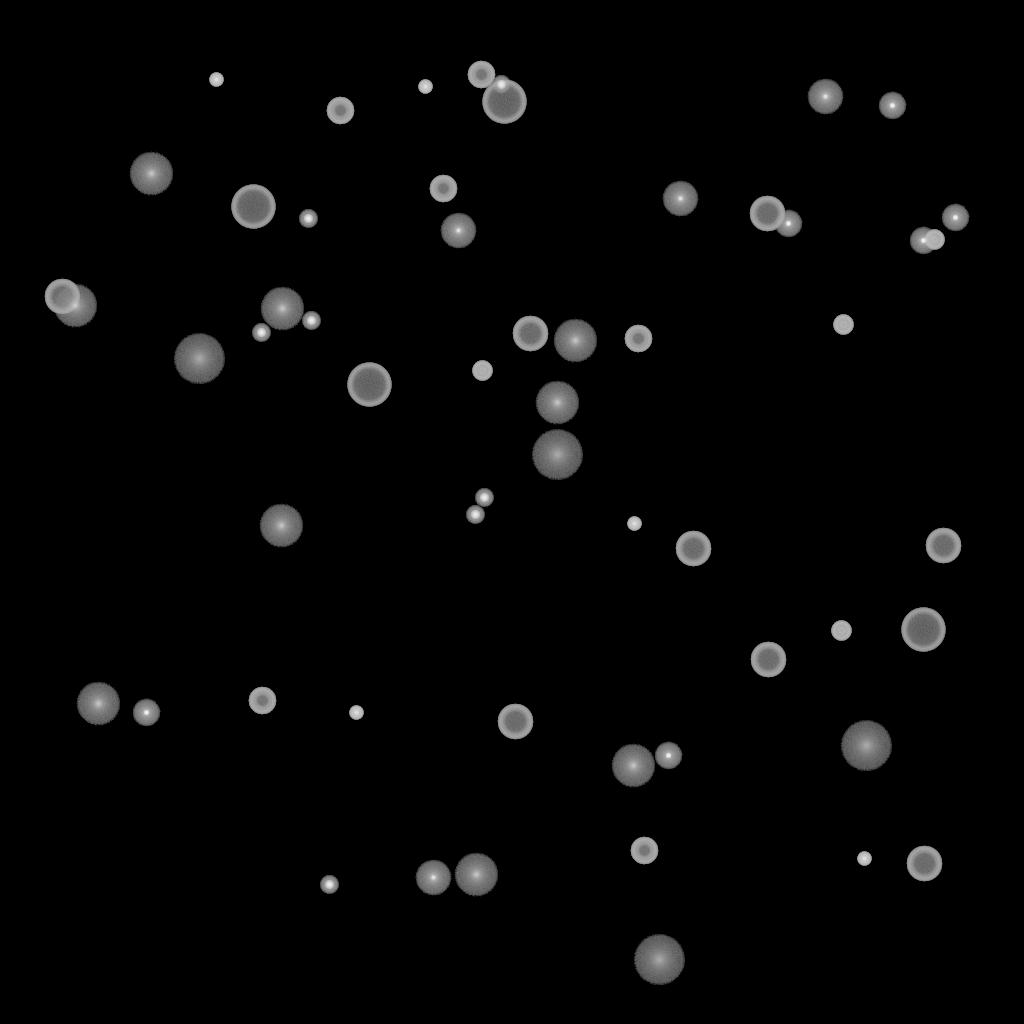depth:-10: (878, 92, 906, 120), (774, 210, 802, 238), (654, 742, 682, 770), (941, 204, 969, 232), (132, 699, 160, 727), (909, 227, 937, 255)
depth:-20: (492, 76, 510, 94), (299, 210, 317, 228), (302, 312, 320, 330), (475, 489, 493, 507), (320, 876, 338, 894), (252, 324, 270, 342), (466, 506, 484, 524)
depth:-30: (627, 517, 641, 531), (349, 706, 363, 720), (209, 73, 223, 87), (418, 80, 432, 94), (857, 852, 871, 866)
depth:-40: (833, 315, 853, 335), (472, 361, 492, 381), (924, 230, 944, 250), (831, 621, 851, 641)
depth:-50: (630, 837, 658, 865), (248, 687, 276, 715), (429, 175, 457, 203), (467, 61, 495, 89), (326, 97, 354, 125), (624, 325, 652, 353)
depth:-60: (750, 642, 786, 678), (906, 846, 942, 882), (497, 704, 533, 740), (675, 531, 711, 567), (925, 528, 961, 564), (512, 316, 548, 352), (749, 196, 785, 232), (44, 279, 80, 315)
depth:-70: (231, 185, 275, 229), (347, 363, 391, 407), (901, 608, 945, 652), (482, 80, 526, 124)
depth:0: (440, 213, 476, 249), (415, 860, 451, 896), (807, 79, 843, 115), (662, 181, 698, 217)
depth:10: (535, 381, 579, 425), (553, 319, 597, 363), (76, 682, 120, 726), (53, 284, 97, 328), (259, 504, 303, 548), (260, 287, 304, 331), (129, 152, 173, 196), (611, 744, 655, 788), (454, 853, 498, 897)
depth:20: (531, 430, 583, 480), (840, 721, 892, 771), (173, 334, 225, 384), (633, 935, 685, 985)
